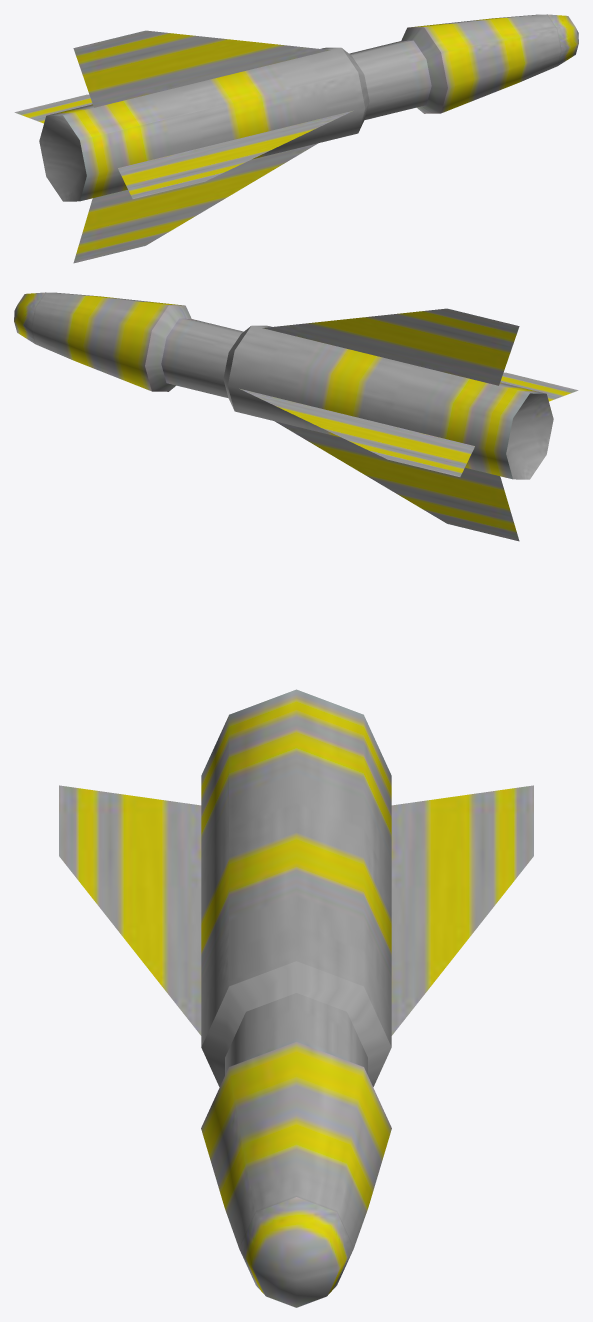
Rendered from forma05.obj.
The picture shows the model from 3 angles, top to bottom: view 1: azimuth 30°, elevation 25°; view 2: azimuth 150°, elevation 25°; view 3: azimuth 270°, elevation 25°; orthographic projection. The views are drawn at different scales.
Visible parts, largest first — view 1: object; view 2: object; view 3: object.
Part boxes in pixels (left/top/right/bottom): object: left=14, top=14, right=578, bottom=263; object: left=14, top=292, right=578, bottom=541; object: left=59, top=689, right=533, bottom=1307.
Size of the model in its own units: 50 by 19.96 by 19.96.
Materials: 1 (1 with a texture image).
